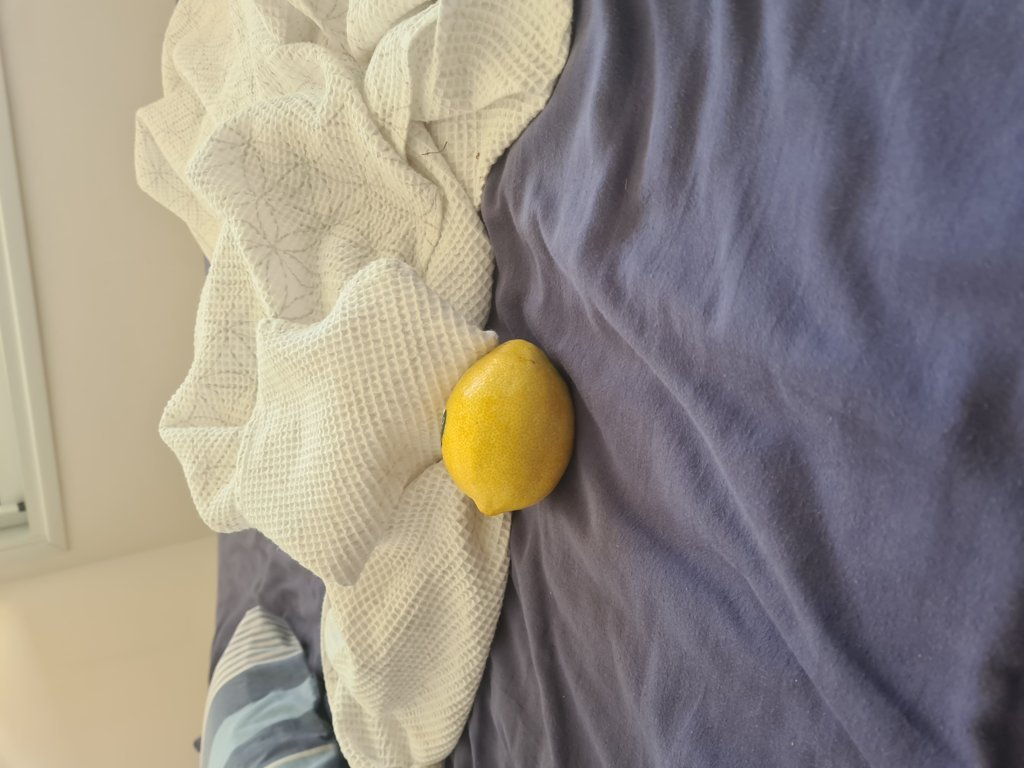lemon: (443, 334, 576, 511)
